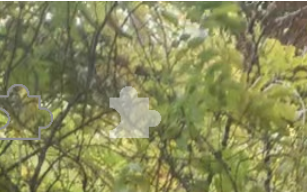target: (104, 86, 167, 140)
